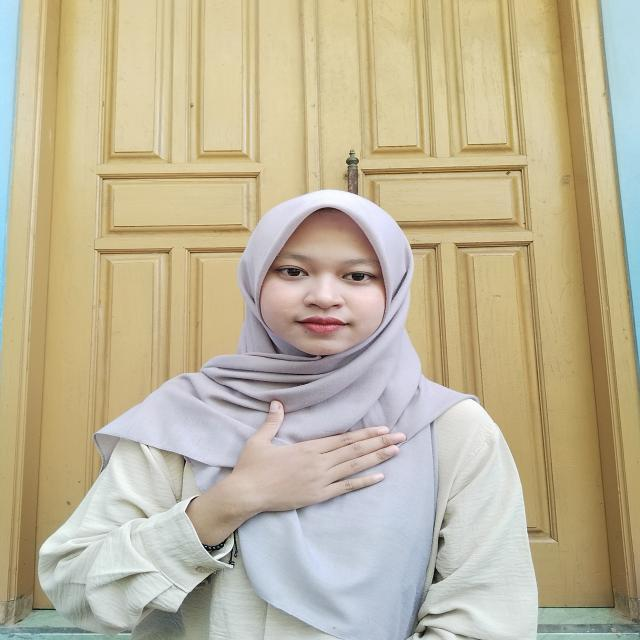tolong: (185, 398, 412, 564)
